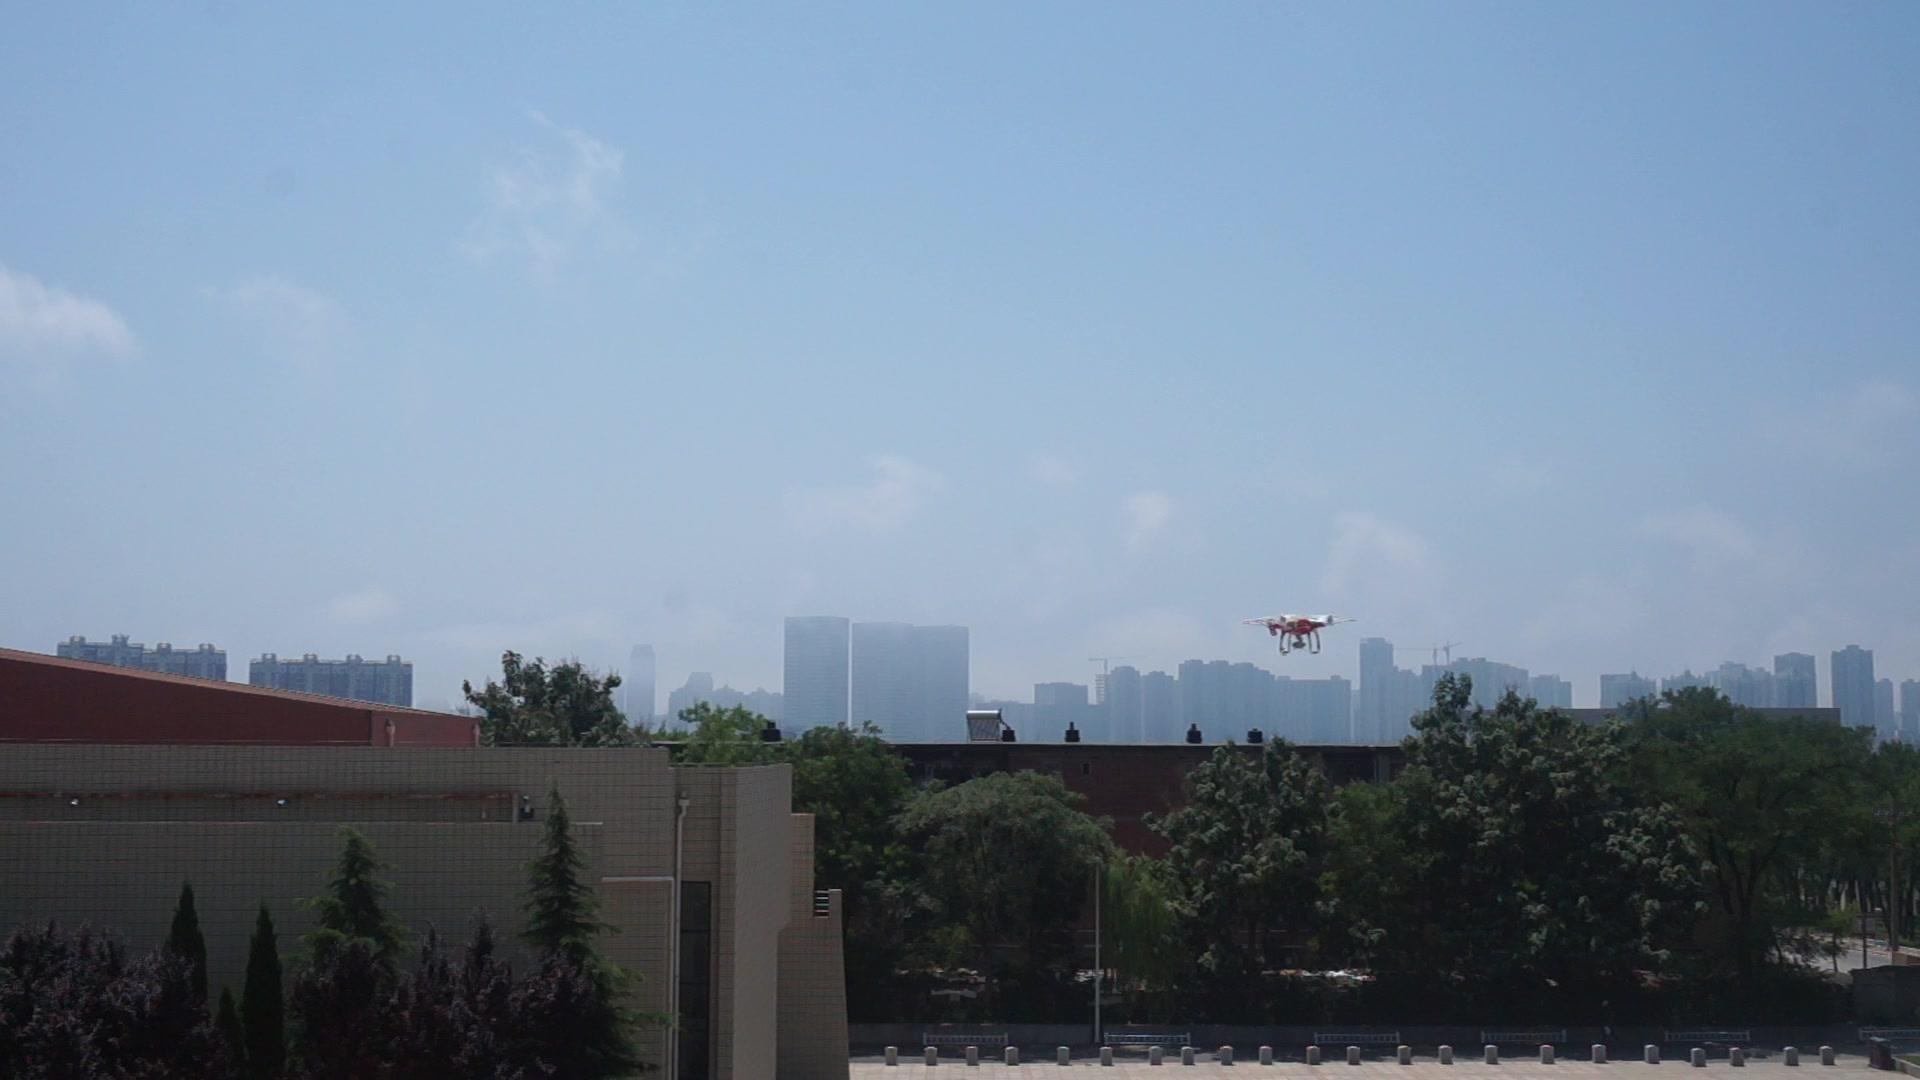UAV: (1244, 612, 1360, 655)
